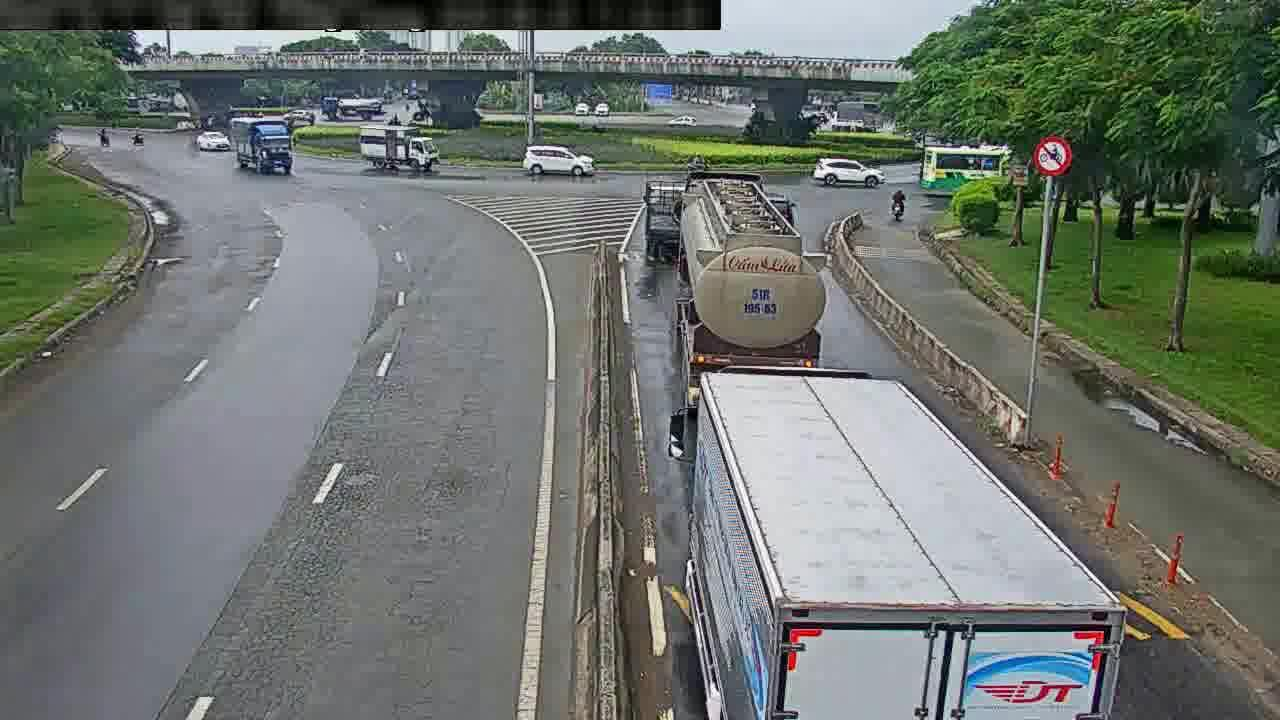14: (910, 142, 1022, 201)
8: (673, 360, 1134, 720), (669, 163, 830, 455), (642, 165, 692, 268), (355, 118, 443, 176), (223, 115, 301, 180)
container: (522, 142, 600, 182), (812, 154, 891, 188), (190, 122, 233, 155)
motorbike: (888, 187, 909, 223)
